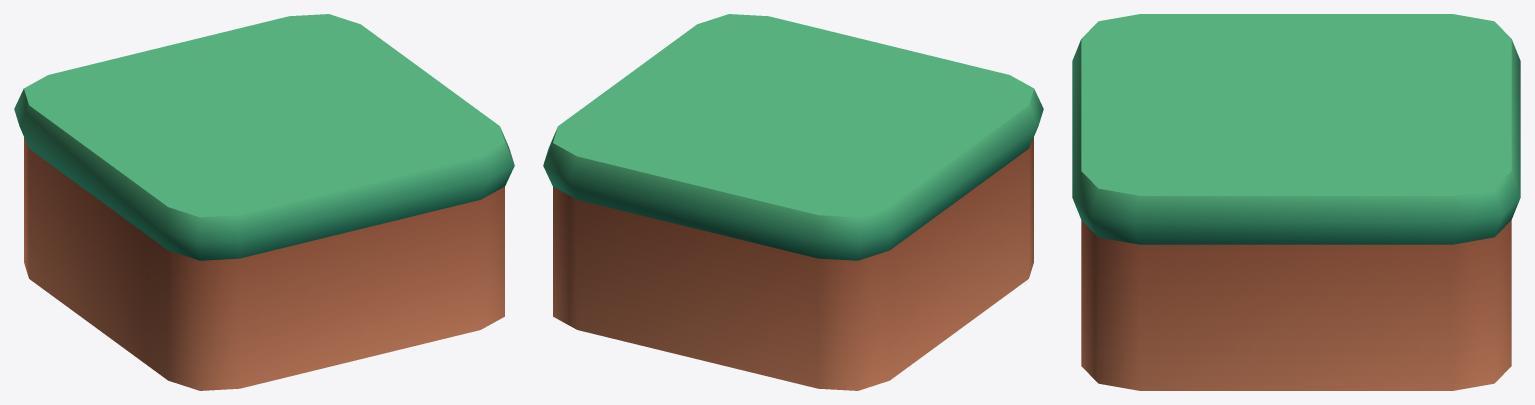
Rendered from grass_block-C5WjMoTM.glb.
The picture shows the model from 3 angles, left to right: view 1: azimuth 30°, elevation 25°; view 2: azimuth 150°, elevation 25°; view 3: azimuth 270°, elevation 25°; orthographic projection. The views are drawn at different scales.
Parts seen in each view (by area): view 1: block-grass-large; view 2: block-grass-large; view 3: block-grass-large.
Boxes of the visible parts, bbox=[...] form: block-grass-large: bbox=[14, 14, 514, 390]; block-grass-large: bbox=[543, 14, 1043, 390]; block-grass-large: bbox=[1072, 14, 1520, 390].
Bounding box in the file's own units: 2.08 × 1 × 2.08.
Materials: 1 (1 with a texture image).
